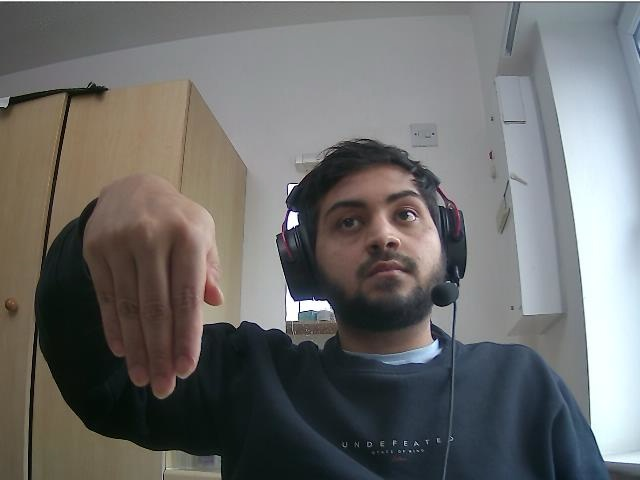down: (82, 173, 224, 400)
